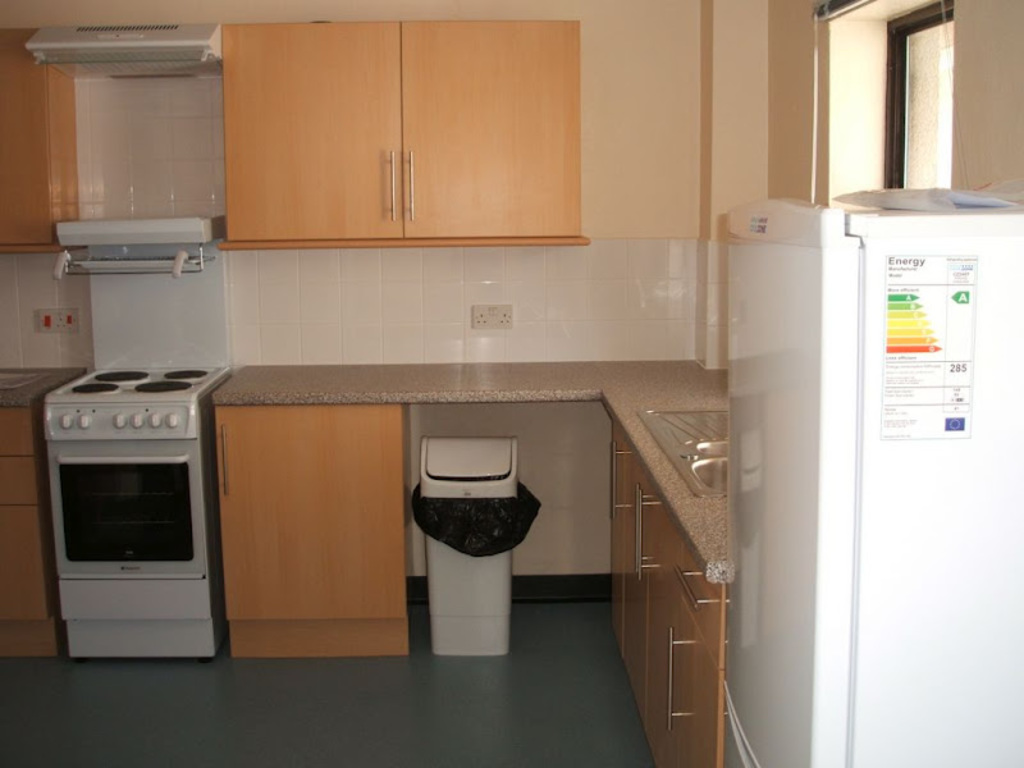Refrigerator: (735, 183, 1015, 768)
